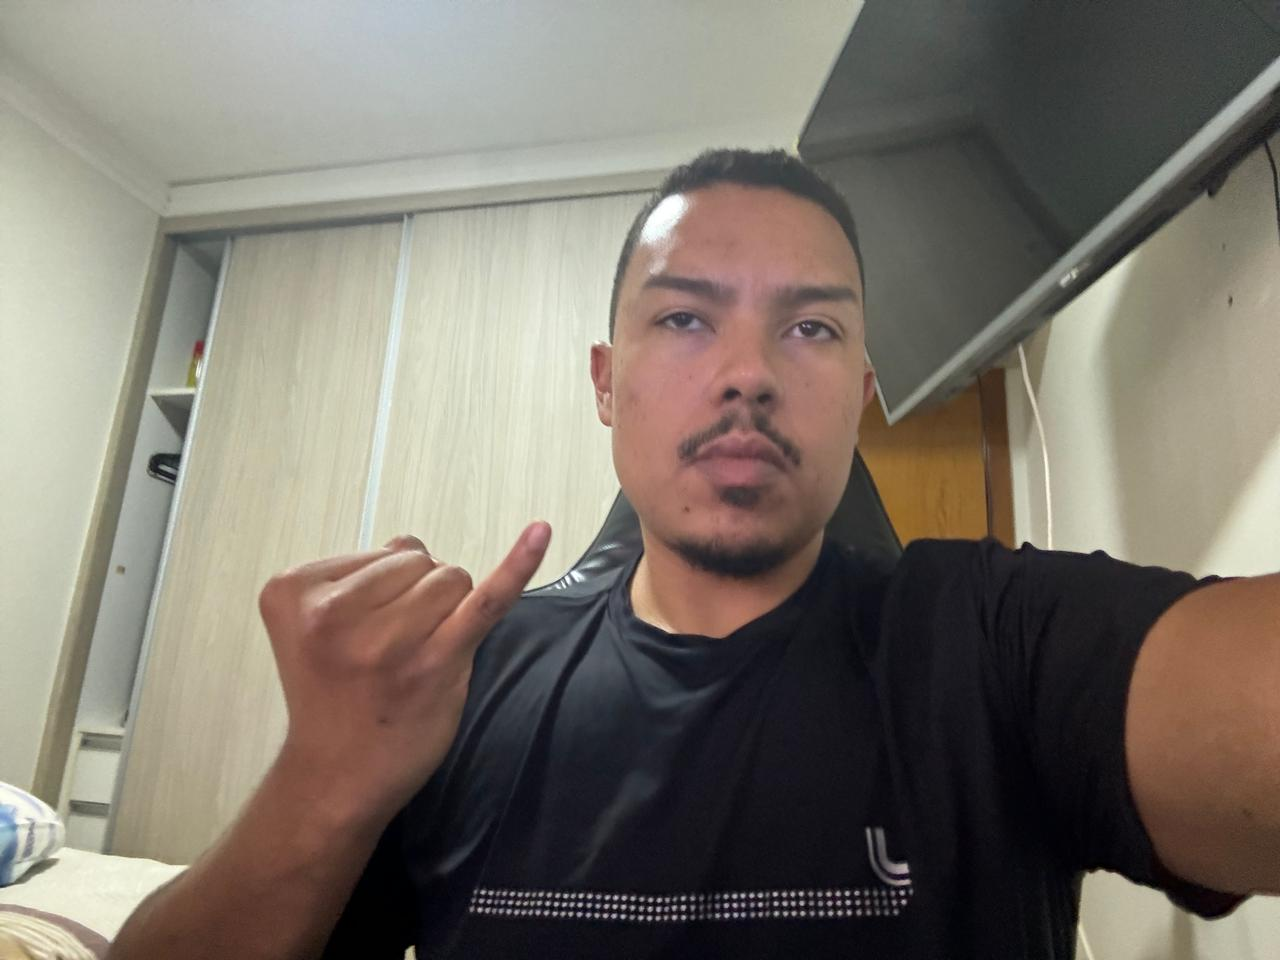j: (251, 505, 560, 823)
